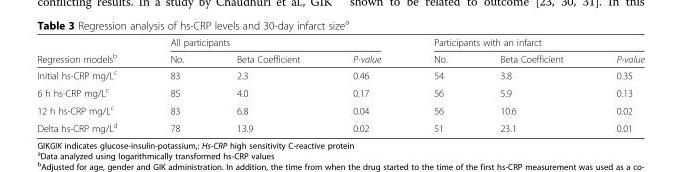table: (36, 36, 643, 133)
table column: (209, 36, 325, 133), (473, 36, 589, 133), (36, 36, 143, 133), (325, 36, 406, 133), (406, 36, 473, 133), (143, 36, 209, 133), (589, 36, 643, 133)
table column header: (36, 36, 643, 66)
table row: (36, 100, 643, 118), (36, 49, 643, 66), (36, 66, 643, 83), (36, 83, 643, 100), (36, 118, 643, 133), (36, 36, 643, 49)
table spanning cell: (143, 36, 406, 49), (36, 36, 143, 66), (406, 36, 643, 49)
